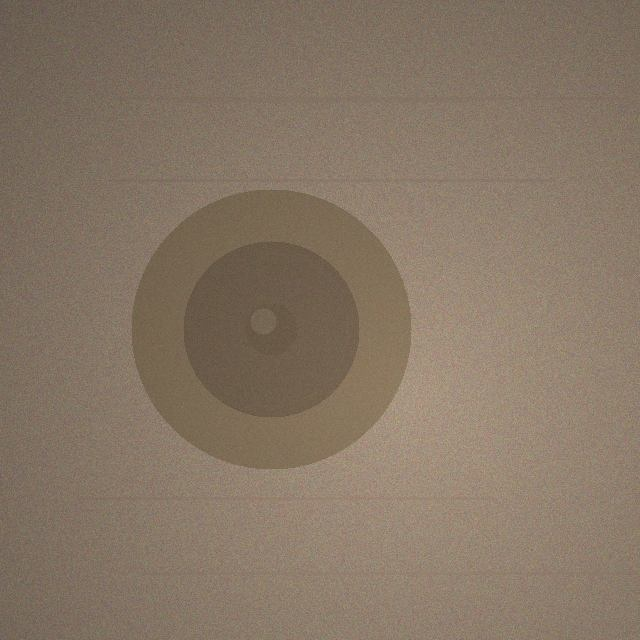good: (131, 189, 411, 469)
